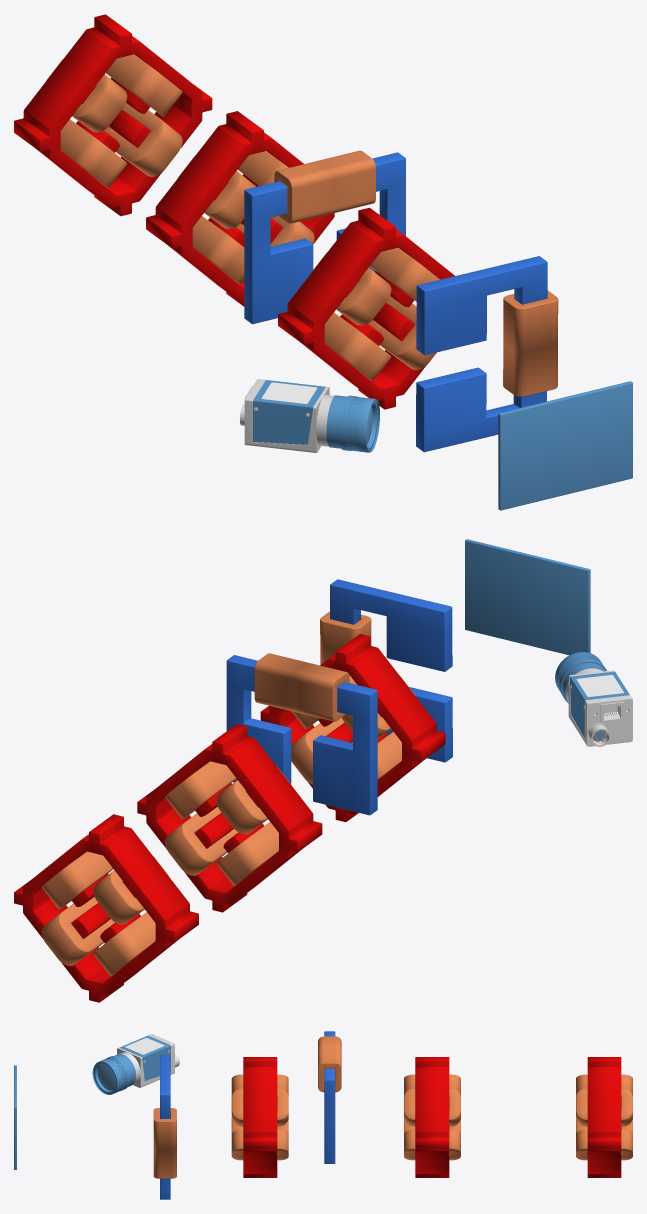
3 renders of one model, top to bottom at view 1: azimuth 30°, elevation 25°; view 2: azimuth 150°, elevation 25°; view 3: azimuth 270°, elevation 25°, orthographic. The views are drawn at different scales.
Parts seen in each view (by area): view 1: quadrupole.glb, screen.glb, horizontal_corrector.glb_1, quadrupole.glb_8, quadrupole.glb_4, quadrupole.glb_1, vertical_corrector.glb, quadrupole.glb_9, screen.glb_2, quadrupole.glb_5, horizontal_corrector.glb, vertical_corrector.glb_1 (+6 smaller); view 2: quadrupole.glb, quadrupole.glb_4, screen.glb, vertical_corrector.glb, quadrupole.glb_1, quadrupole.glb_5, horizontal_corrector.glb_1, quadrupole.glb_8, vertical_corrector.glb_1, quadrupole.glb_9, screen.glb_1, screen.glb_2 (+6 smaller); view 3: quadrupole.glb_8, quadrupole.glb_4, quadrupole.glb, quadrupole.glb_9, quadrupole.glb_1, quadrupole.glb_5, screen.glb_2, horizontal_corrector.glb, vertical_corrector.glb, vertical_corrector.glb_1, horizontal_corrector.glb_1, vertical_corrector.glb_3 (+9 smaller).
Boxes of the visible parts, bbox=[...] form: quadrupole.glb: bbox=[14, 14, 212, 216]; screen.glb: bbox=[498, 381, 632, 510]; horizontal_corrector.glb_1: bbox=[416, 256, 547, 452]; quadrupole.glb_8: bbox=[278, 207, 454, 409]; quadrupole.glb_4: bbox=[146, 111, 334, 306]; quadrupole.glb_1: bbox=[46, 54, 182, 187]; vertical_corrector.glb: bbox=[244, 152, 405, 324]; quadrupole.glb_9: bbox=[310, 247, 439, 380]; screen.glb_2: bbox=[253, 380, 379, 452]; quadrupole.glb_5: bbox=[178, 151, 314, 284]; horizontal_corrector.glb: bbox=[503, 290, 558, 396]; vertical_corrector.glb_1: bbox=[274, 150, 375, 223]; quadrupole.glb: bbox=[14, 814, 198, 1002]; quadrupole.glb_4: bbox=[137, 724, 322, 912]; screen.glb: bbox=[465, 539, 590, 655]; vertical_corrector.glb: bbox=[226, 655, 377, 815]; quadrupole.glb_1: bbox=[41, 851, 168, 975]; quadrupole.glb_5: bbox=[165, 761, 291, 885]; horizontal_corrector.glb_1: bbox=[330, 579, 452, 762]; quadrupole.glb_8: bbox=[260, 634, 445, 822]; vertical_corrector.glb_1: bbox=[254, 653, 349, 721]; quadrupole.glb_9: bbox=[291, 675, 414, 784]; screen.glb_1: bbox=[566, 668, 632, 746]; screen.glb_2: bbox=[555, 652, 629, 741]; quadrupole.glb_8: bbox=[243, 1057, 277, 1177]; quadrupole.glb_4: bbox=[415, 1057, 449, 1177]; quadrupole.glb: bbox=[587, 1057, 621, 1177]; quadrupole.glb_9: bbox=[231, 1074, 288, 1160]; quadrupole.glb_1: bbox=[576, 1074, 632, 1160]; quadrupole.glb_5: bbox=[404, 1074, 460, 1160]; screen.glb_2: bbox=[92, 1035, 170, 1094]; horizontal_corrector.glb: bbox=[153, 1108, 176, 1178]; vertical_corrector.glb: bbox=[324, 1031, 335, 1163]; vertical_corrector.glb_1: bbox=[318, 1036, 341, 1092]; horizontal_corrector.glb_1: bbox=[160, 1055, 170, 1199]; vertical_corrector.glb_3: bbox=[324, 1069, 334, 1163].
Size of the model in its own units: 0.7661 by 0.4481 by 1.98.
